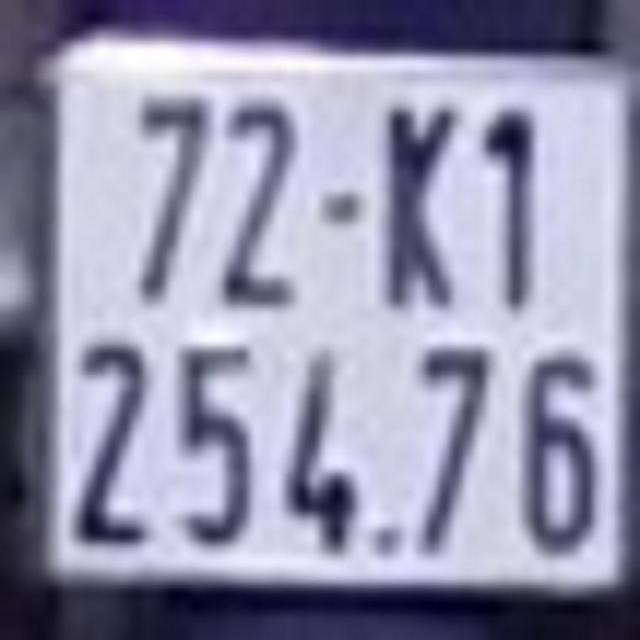1: (482, 106, 534, 312)
2: (220, 100, 296, 310), (72, 343, 149, 546)
4: (286, 340, 359, 550)
5: (176, 335, 252, 544)
6: (520, 345, 596, 554)
7: (133, 95, 209, 298), (419, 339, 488, 556)
K: (387, 97, 457, 313)
